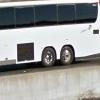Bus: (1, 0, 100, 70)
